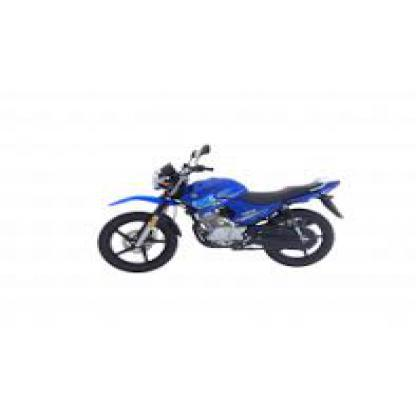Motorcycle: (96, 118, 348, 286)
